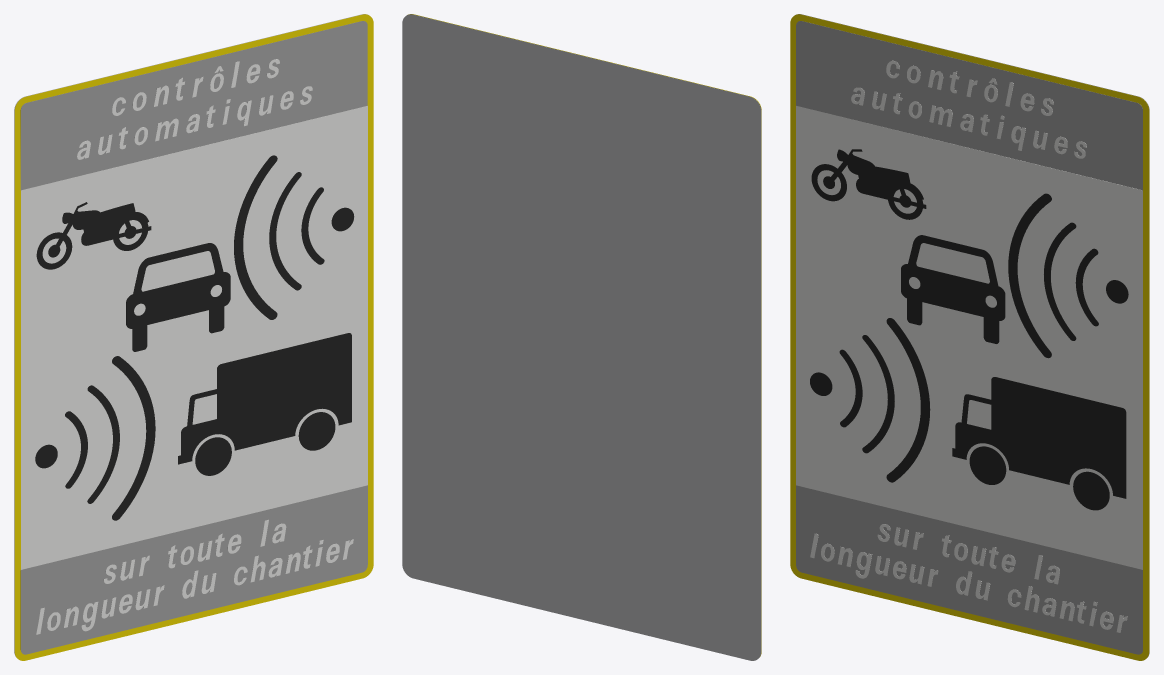
3 renders of one model, left to right at view 1: azimuth 30°, elevation 25°; view 2: azimuth 150°, elevation 25°; view 3: azimuth 330°, elevation 25°, orthographic.
Parts seen in each view (by area): view 1: SR3c2_p02, SR3c2_p01, SR3c2_p05, SR3c2_p00, SR3c2_p03, SR3c2_p07, SR3c2_p04, SR3c2_p06, SR3c2_dos; view 2: SR3c2_dos, SR3c2_p00; view 3: SR3c2_p02, SR3c2_p01, SR3c2_p05, SR3c2_p00, SR3c2_p03, SR3c2_p07, SR3c2_p04, SR3c2_p06, SR3c2_dos.
Boxes of the visible parts, x1=… form: SR3c2_p02: x1=21, y1=106, x2=367, y2=569; SR3c2_p01: x1=20, y1=21, x2=367, y2=654; SR3c2_p05: x1=178, y1=155, x2=354, y2=475; SR3c2_p00: x1=14, y1=14, x2=373, y2=660; SR3c2_p03: x1=36, y1=202, x2=230, y2=503; SR3c2_p07: x1=36, y1=519, x2=353, y2=634; SR3c2_p04: x1=35, y1=172, x2=301, y2=520; SR3c2_p06: x1=77, y1=59, x2=312, y2=159; SR3c2_dos: x1=14, y1=14, x2=367, y2=656; SR3c2_dos: x1=402, y1=14, x2=761, y2=660; SR3c2_p00: x1=408, y1=14, x2=761, y2=656; SR3c2_p02: x1=796, y1=106, x2=1142, y2=569; SR3c2_p01: x1=796, y1=21, x2=1142, y2=654; SR3c2_p05: x1=952, y1=193, x2=1128, y2=510; SR3c2_p00: x1=790, y1=14, x2=1149, y2=660; SR3c2_p03: x1=811, y1=149, x2=1005, y2=453; SR3c2_p07: x1=810, y1=524, x2=1127, y2=632; SR3c2_p04: x1=810, y1=222, x2=1076, y2=482; SR3c2_p06: x1=851, y1=60, x2=1086, y2=158; SR3c2_dos: x1=796, y1=14, x2=1149, y2=656.
Size of the model in its own units: 0.7 by 1.05 by 0.0047.
